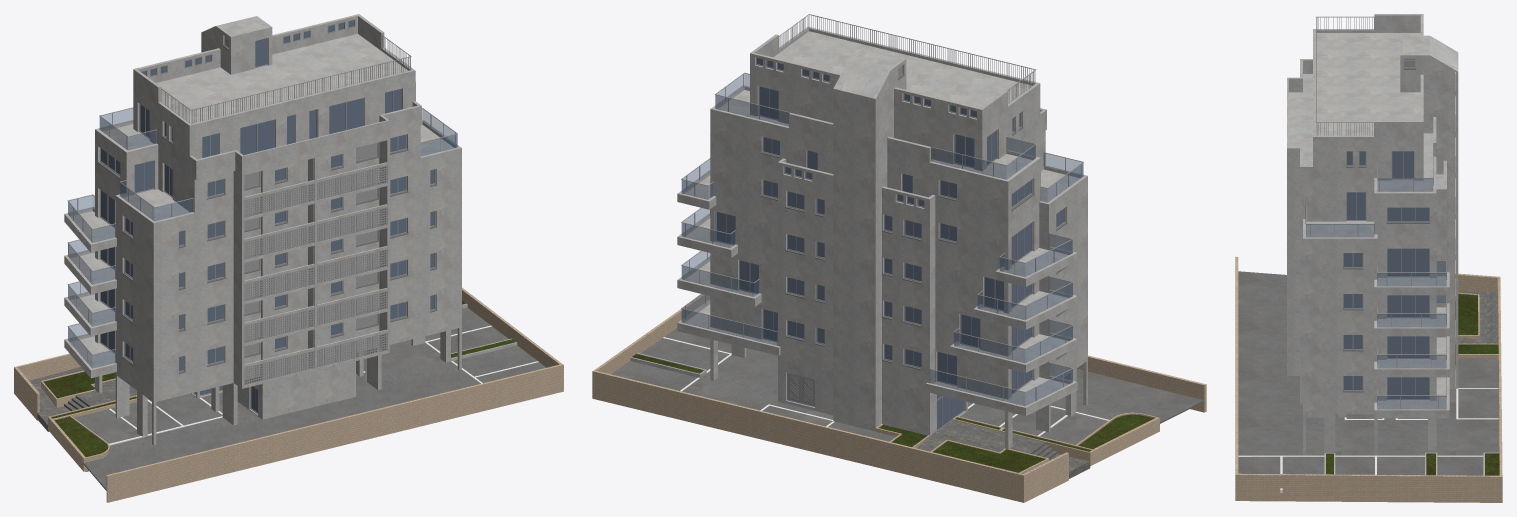
Rendered from architecture.glb.
3 renders of one model, left to right at view 1: azimuth 30°, elevation 25°; view 2: azimuth 150°, elevation 25°; view 3: azimuth 270°, elevation 25°, orthographic. The views are drawn at different scales.
Parts seen in each view (by area): view 1: Line66, Line57, Line01, Line02, Rectangle01, Rectangle11, Line28, Line03, Rectangle09, Line13, Railing13, Line04 (+46 smaller); view 2: Line57, Rectangle04, Line66, Line09, Line07, Rectangle03, Rectangle13, Line28, Line03, Rectangle19, Rectangle10, Line13 (+37 smaller); view 3: Line66, Line05, Line57, Line28, Line21, Line14, Line06, Rectangle06, Line27, Line13, Rectangle04, FixedWindow50 (+36 smaller).
Part boxes in pixels (bbox=[...]): Line66: bbox=[74, 307, 546, 490]; Line57: bbox=[14, 287, 563, 502]; Line01: bbox=[152, 171, 260, 445]; Line02: bbox=[356, 125, 461, 370]; Rectangle01: bbox=[260, 148, 355, 419]; Rectangle11: bbox=[241, 120, 389, 388]; Line28: bbox=[156, 34, 407, 123]; Line03: bbox=[115, 195, 154, 436]; Rectangle09: bbox=[191, 70, 412, 159]; Line13: bbox=[133, 68, 198, 212]; Railing13: bbox=[161, 34, 411, 123]; Line04: bbox=[95, 128, 129, 392]; Line57: bbox=[592, 294, 1206, 502]; Rectangle04: bbox=[833, 88, 877, 431]; Line66: bbox=[611, 328, 1204, 444]; Line09: bbox=[887, 137, 1006, 398]; Line07: bbox=[713, 108, 833, 342]; Rectangle03: bbox=[778, 161, 833, 415]; Rectangle13: bbox=[882, 186, 931, 435]; Line28: bbox=[773, 31, 1031, 107]; Line03: bbox=[1046, 176, 1086, 432]; Rectangle19: bbox=[894, 87, 980, 170]; Rectangle10: bbox=[752, 53, 840, 123]; Line13: bbox=[979, 82, 1046, 171]; Line66: bbox=[1238, 271, 1499, 475]; Line05: bbox=[1306, 237, 1377, 455]; Line57: bbox=[1235, 256, 1502, 502]; Line28: bbox=[1316, 33, 1455, 135]; Line21: bbox=[1300, 120, 1423, 221]; Line14: bbox=[1400, 54, 1458, 388]; Line06: bbox=[1374, 191, 1436, 451]; Rectangle06: bbox=[1288, 147, 1302, 375]; Line27: bbox=[1288, 74, 1455, 191]; Line13: bbox=[1300, 14, 1423, 73]; Rectangle04: bbox=[1455, 72, 1458, 388]; FixedWindow50: bbox=[1387, 248, 1429, 276].
Size of the model in its own units: 36.28 by 26.62 by 18.59.
Materials: 13 (6 with a texture image).
